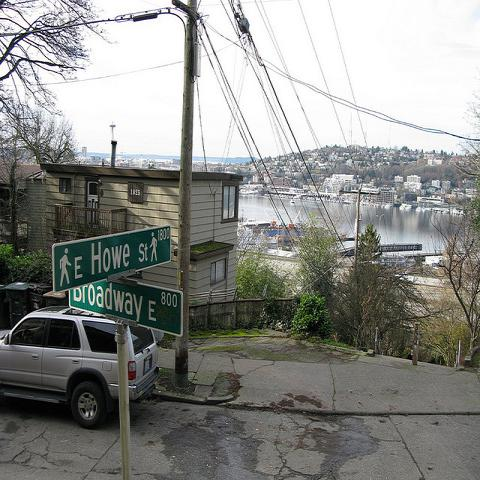car: (1, 303, 160, 425)
